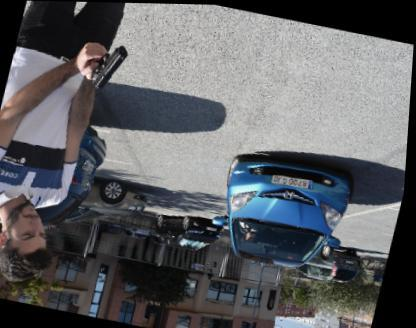pistol: (90, 40, 131, 92)
